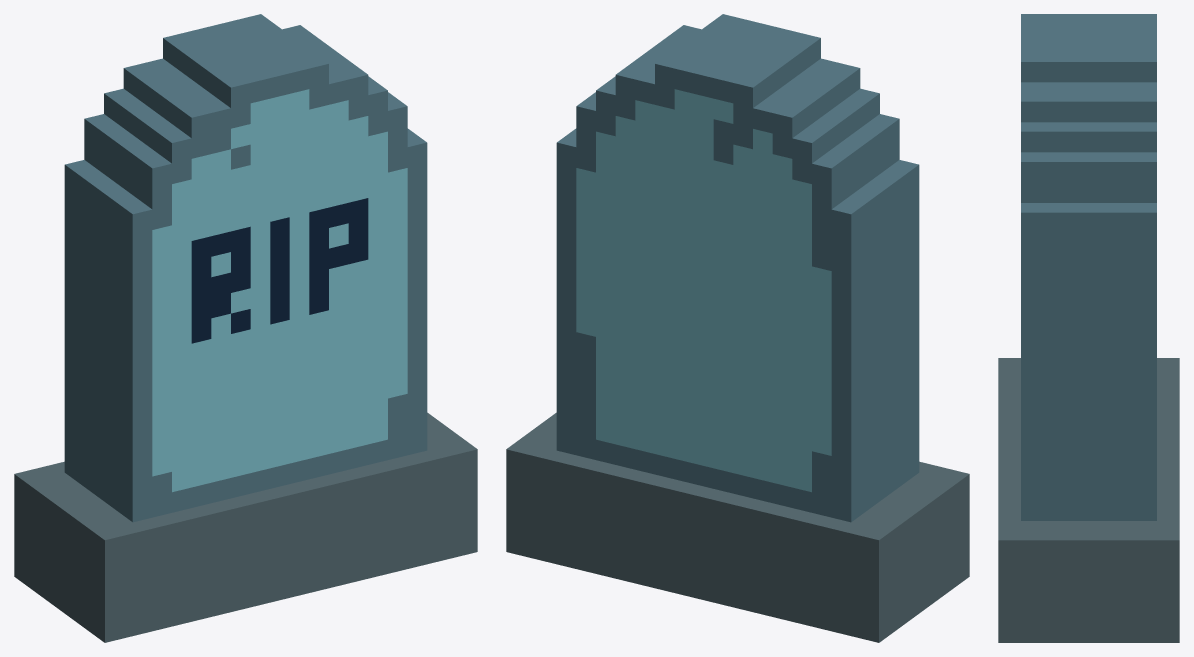
The model's file is grave_1.gltf.
3 views of the same model, side by side, from view 1: azimuth 30°, elevation 25°; view 2: azimuth 150°, elevation 25°; view 3: azimuth 270°, elevation 25° (orthographic).
Visible parts, largest first — view 1: Node1; view 2: Node1; view 3: Node1.
Boxes of the visible parts, x1=… form: Node1: x1=14, y1=14, x2=477, y2=642; Node1: x1=506, y1=14, x2=969, y2=642; Node1: x1=998, y1=14, x2=1179, y2=642.
Bounding box in the file's own units: 1.9 × 2.5 × 0.8.
Materials: 1 (1 with a texture image).
